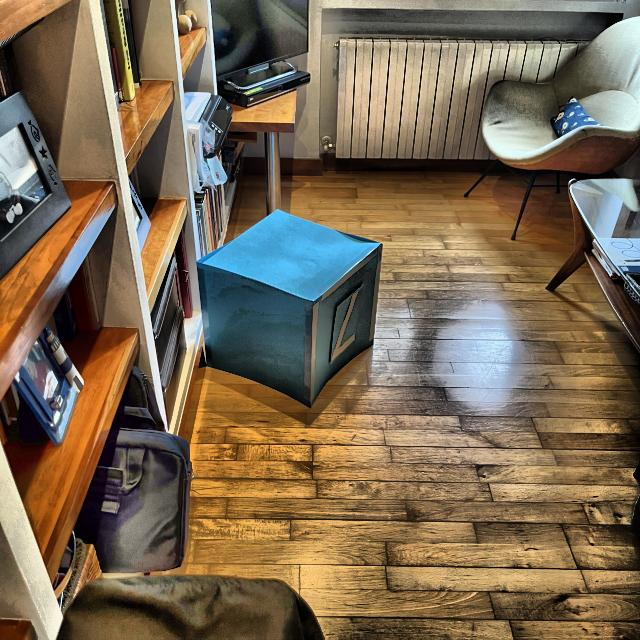blue box: (199, 210, 381, 410)
seven: (331, 293, 358, 363)
